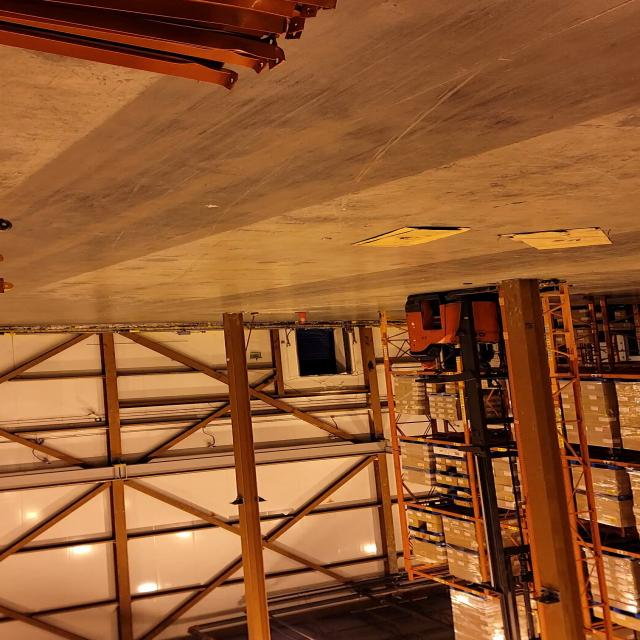forklift: (403, 276, 581, 454)
human: (398, 341, 456, 374)
objectofinterest: (505, 276, 589, 635), (498, 224, 614, 258), (348, 224, 473, 252)
